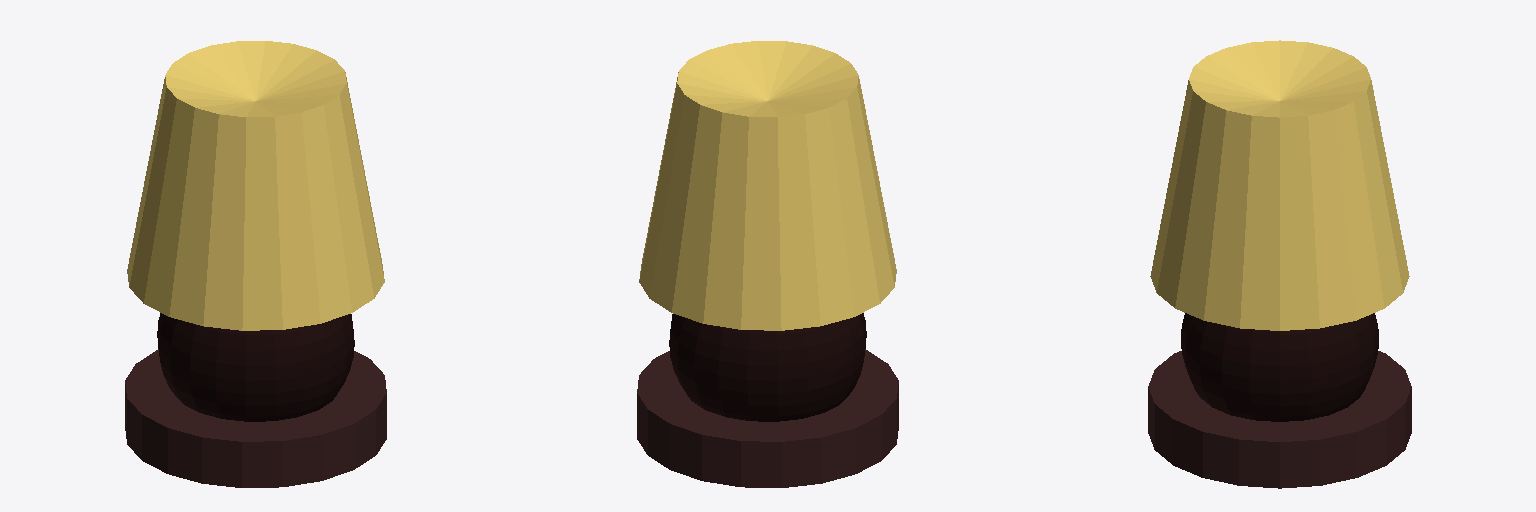
File: BasicLamp.obj
3 renders of one model, left to right at view 1: azimuth 30°, elevation 25°; view 2: azimuth 150°, elevation 25°; view 3: azimuth 270°, elevation 25°, orthographic.
Visible parts, largest first — view 1: pSphere1 pCylinder2, pSphere1 pCylinder1, pSphere1; view 2: pSphere1 pCylinder2, pSphere1 pCylinder1, pSphere1; view 3: pSphere1 pCylinder2, pSphere1 pCylinder1, pSphere1.
Boxes of the visible parts, box(x1,y1,x2,y2) form: pSphere1 pCylinder2: box(127, 41, 384, 330); pSphere1 pCylinder1: box(125, 349, 386, 487); pSphere1: box(157, 313, 354, 421); pSphere1 pCylinder2: box(639, 41, 896, 330); pSphere1 pCylinder1: box(637, 349, 898, 487); pSphere1: box(669, 313, 866, 421); pSphere1 pCylinder2: box(1150, 40, 1409, 330); pSphere1 pCylinder1: box(1148, 351, 1411, 488); pSphere1: box(1181, 313, 1378, 421).
Bounding box in the file's own units: 2.03 × 3.01 × 2.03.